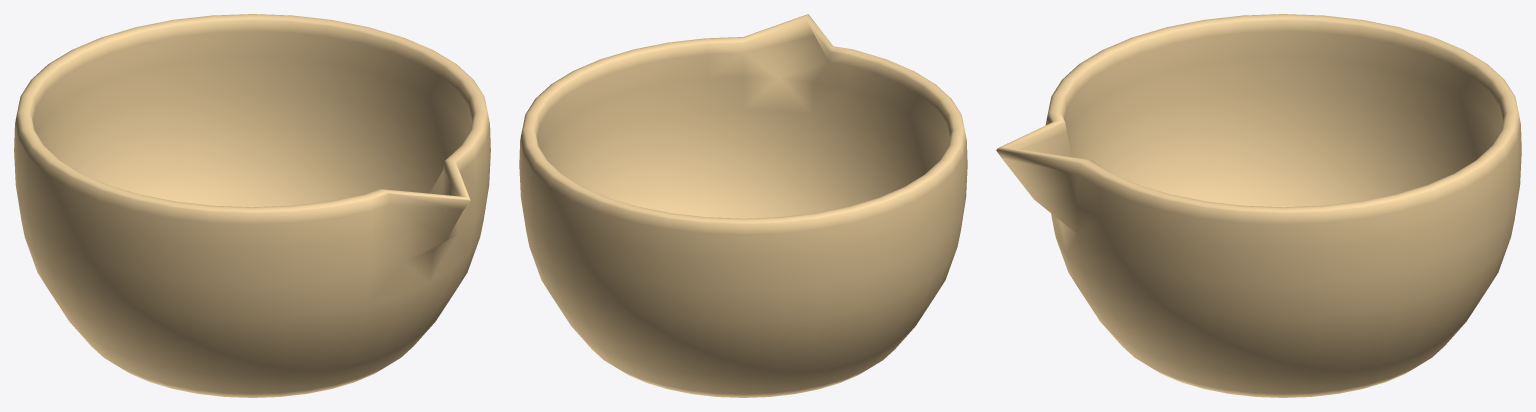
Rendered from 蒸发皿 (1).FBX.
3 renders of one model, left to right at view 1: azimuth 30°, elevation 25°; view 2: azimuth 150°, elevation 25°; view 3: azimuth 270°, elevation 25°, orthographic. The views are drawn at different scales.
Parts seen in each view (by area): view 1: Archmodels57_025_03; view 2: Archmodels57_025_03; view 3: Archmodels57_025_03.
Boxes of the visible parts, left/top/right/bottom form: Archmodels57_025_03: left=14, top=14, right=490, bottom=397; Archmodels57_025_03: left=519, top=14, right=967, bottom=397; Archmodels57_025_03: left=996, top=14, right=1521, bottom=397.
Bounding box in the file's own units: 98.65 × 49.98 × 109.
